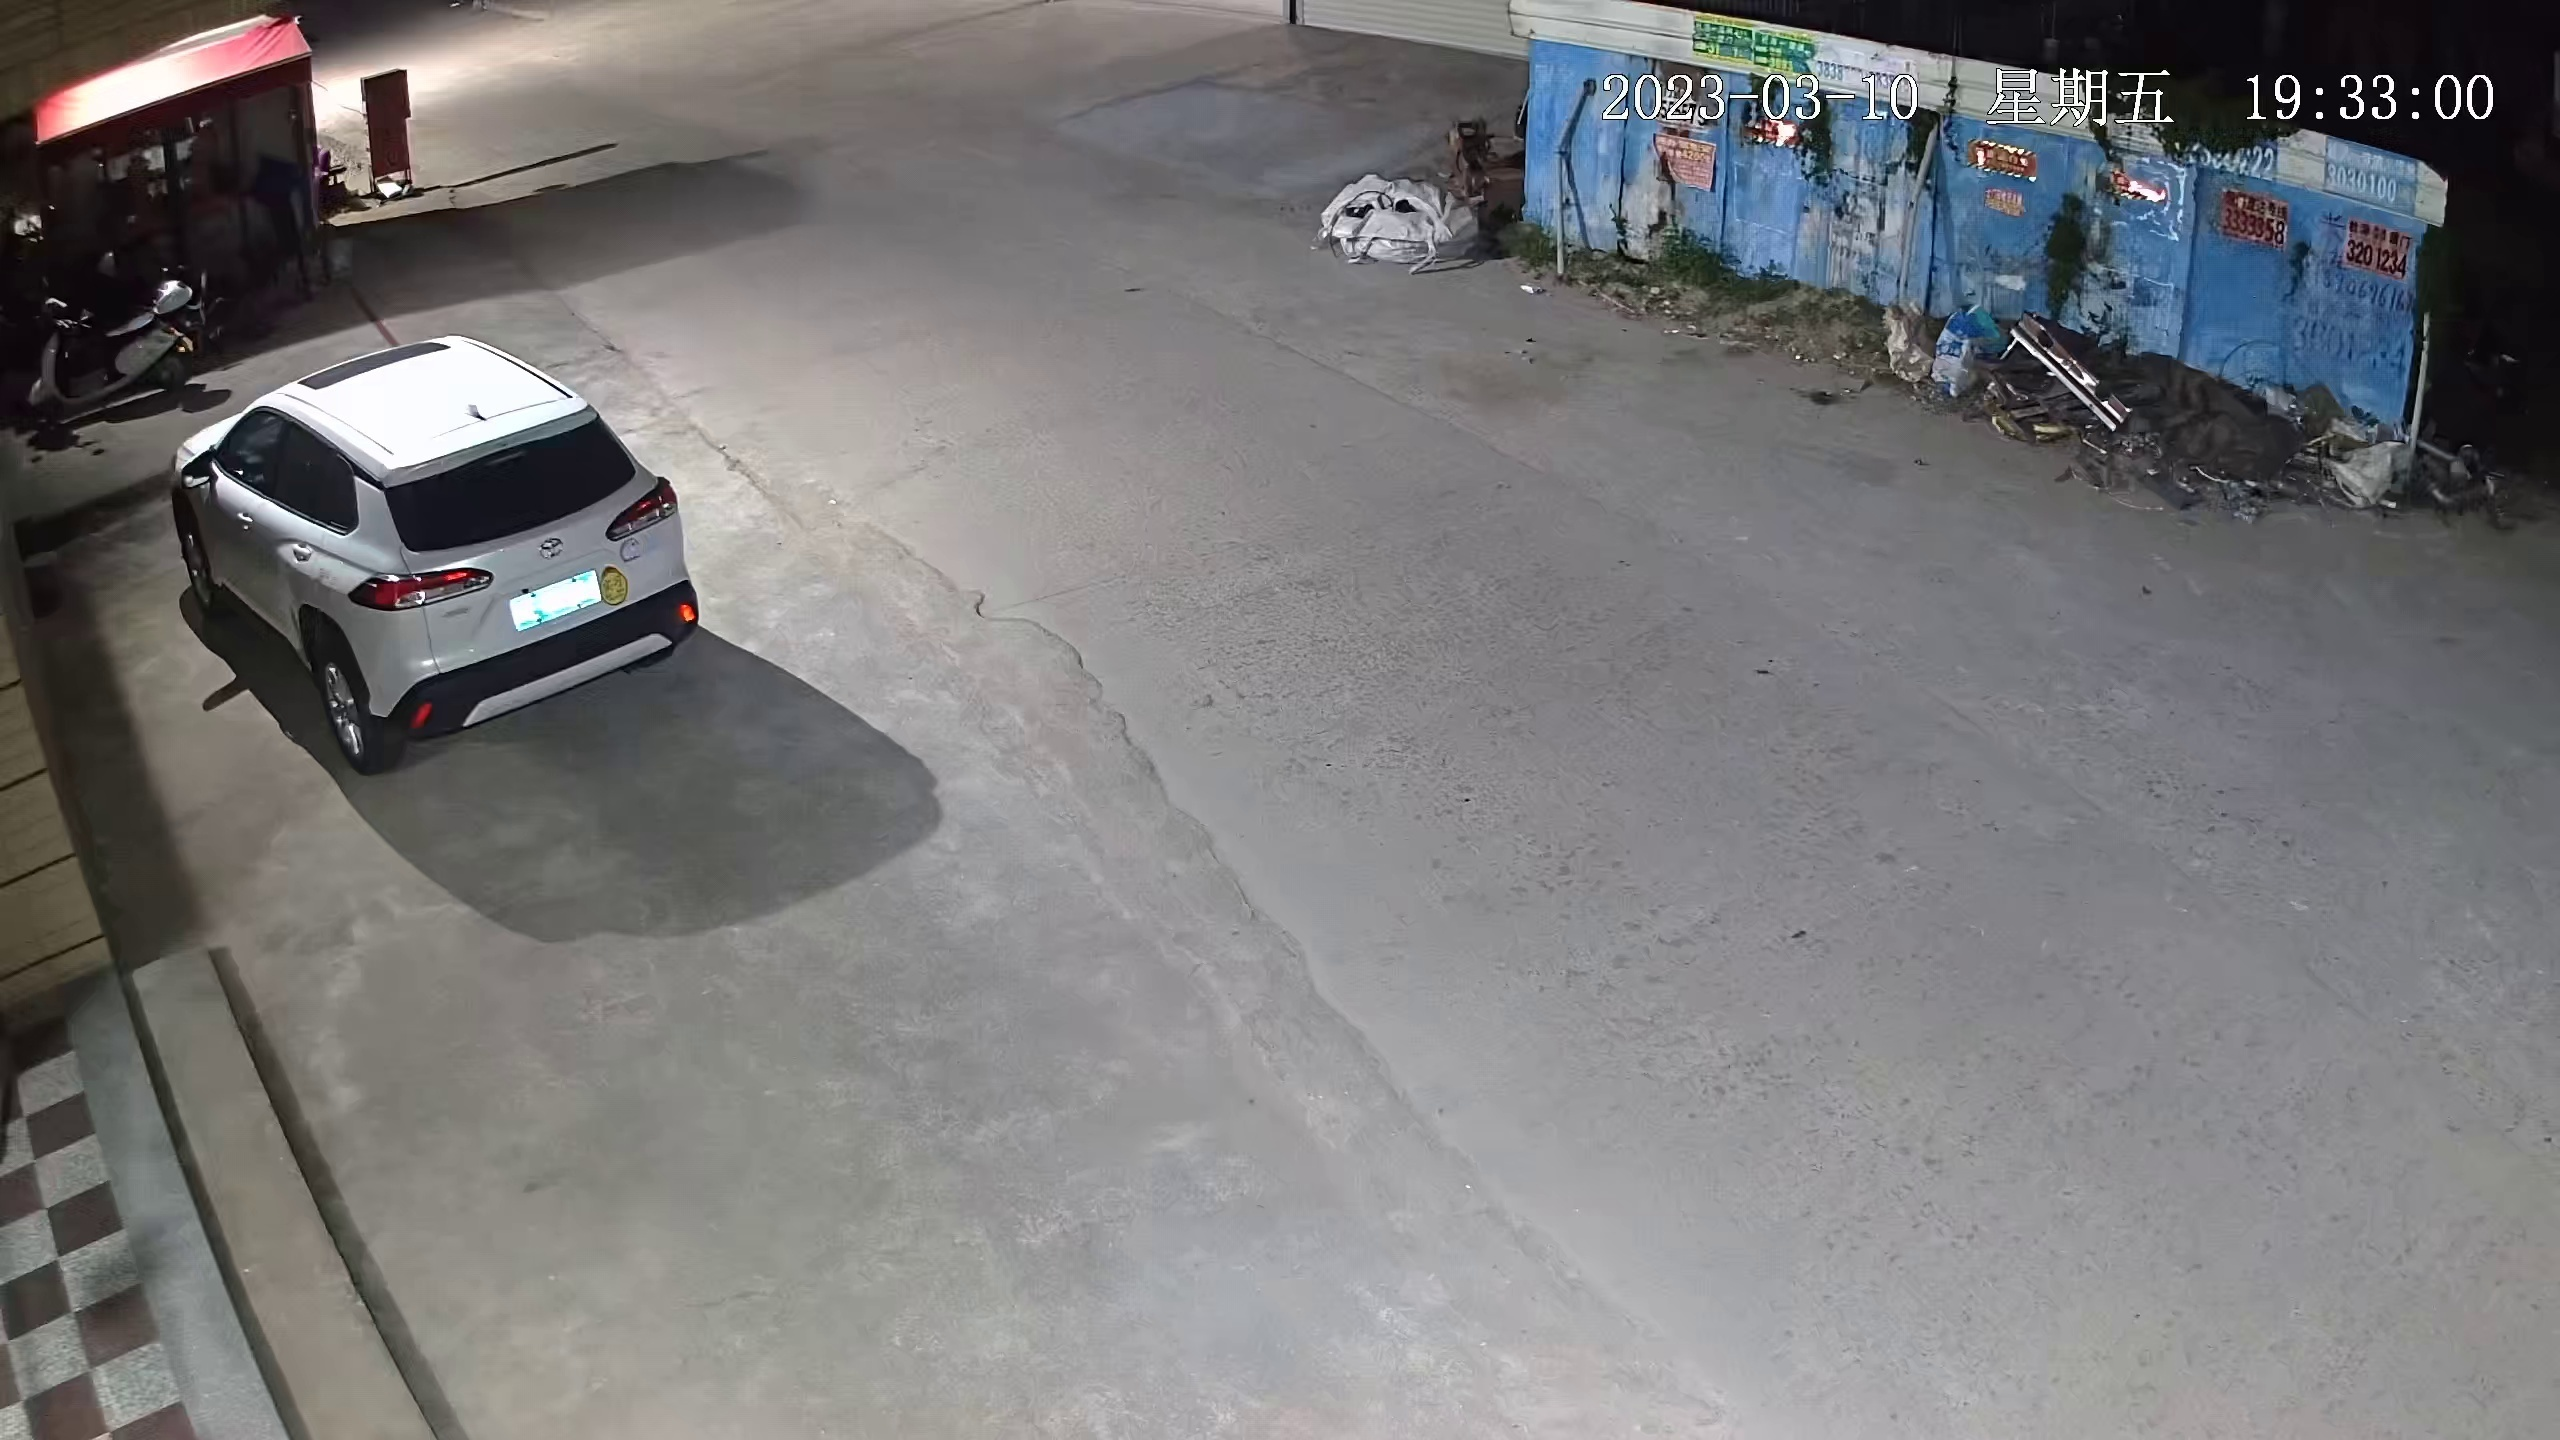motorcycle: (23, 283, 213, 410)
suv: (169, 331, 709, 767)
